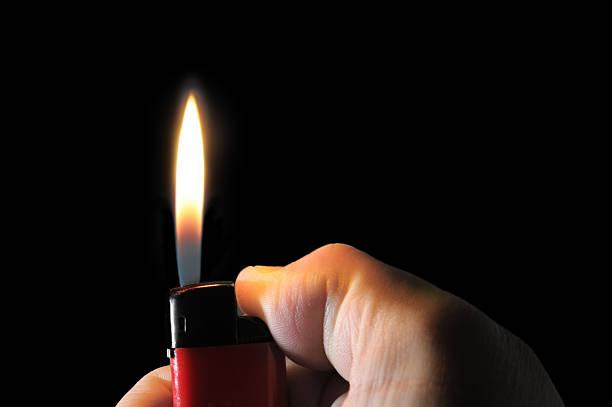Fire: (169, 86, 205, 287)
